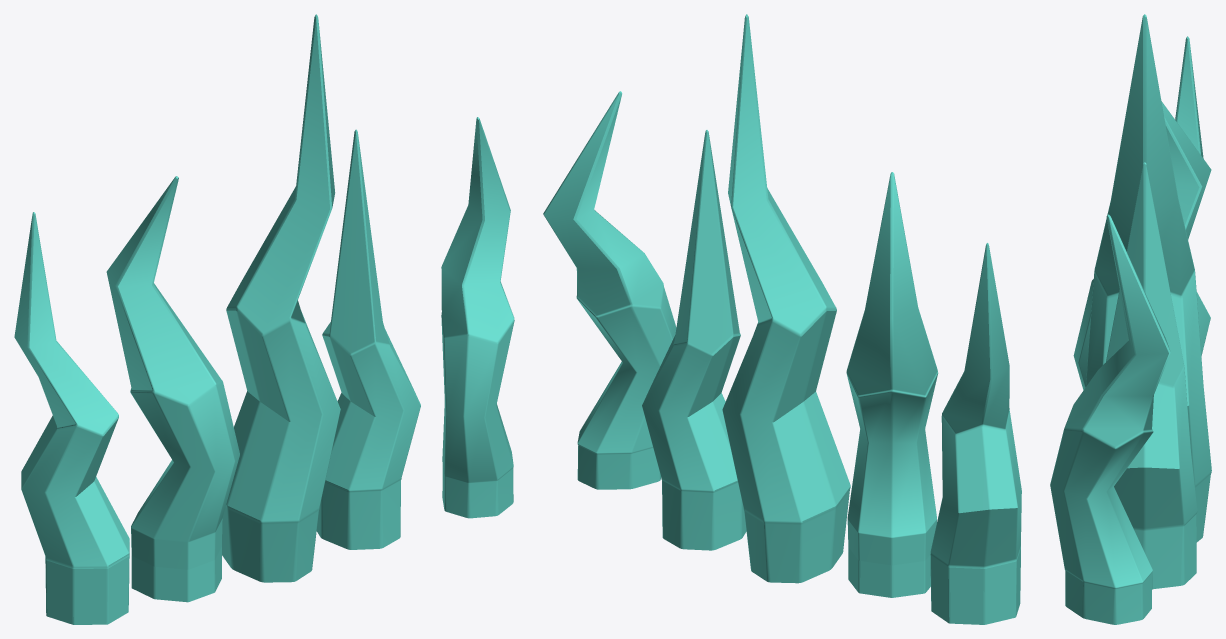
The model's file is Ice Spikes.fbx.
The picture shows the model from 3 angles, left to right: view 1: azimuth 30°, elevation 25°; view 2: azimuth 150°, elevation 25°; view 3: azimuth 270°, elevation 25°; orthographic projection. The views are drawn at different scales.
Parts seen in each view (by area): view 1: Ice_Spike1, Ice_Spike4, Ice_Spike3, Ice_Spike2, Ice_Spike5; view 2: Ice_Spike1, Ice_Spike4, Ice_Spike2, Ice_Spike3, Ice_Spike5; view 3: Ice_Spike5, Ice_Spike1, Ice_Spike2, Ice_Spike4, Ice_Spike3.
Boxes of the visible parts, left/top/right/bottom form: Ice_Spike1: left=222, top=14, right=340, bottom=582; Ice_Spike4: left=106, top=176, right=239, bottom=602; Ice_Spike3: left=14, top=212, right=129, bottom=624; Ice_Spike2: left=316, top=129, right=420, bottom=549; Ice_Spike5: left=441, top=117, right=514, bottom=518; Ice_Spike1: left=722, top=14, right=850, bottom=583; Ice_Spike4: left=846, top=172, right=938, bottom=597; Ice_Spike2: left=642, top=130, right=746, bottom=550; Ice_Spike3: left=930, top=243, right=1021, bottom=624; Ice_Spike5: left=543, top=91, right=676, bottom=489; Ice_Spike5: left=1050, top=214, right=1170, bottom=624; Ice_Spike1: left=1086, top=14, right=1211, bottom=542; Ice_Spike2: left=1106, top=162, right=1197, bottom=589; Ice_Spike4: left=1073, top=101, right=1211, bottom=390; Ice_Spike3: left=1175, top=36, right=1210, bottom=356.
Size of the model in its own units: 15.59 by 16.86 by 4.49.
